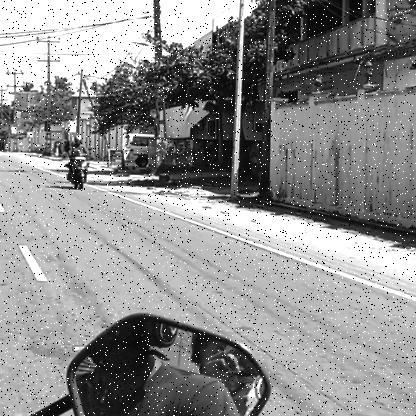motorcycle: (64, 150, 95, 193)
